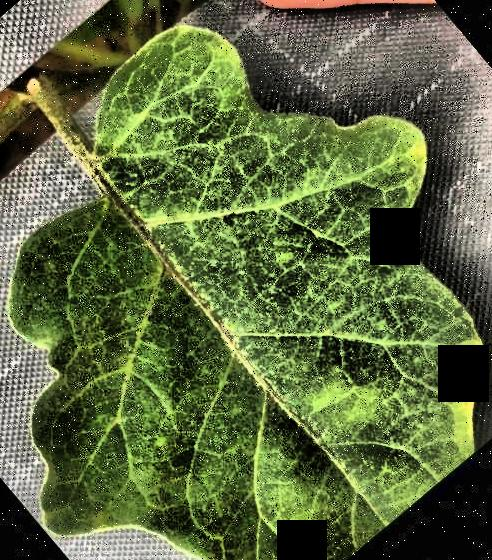Non-critical Stress: (0, 1, 492, 560)
